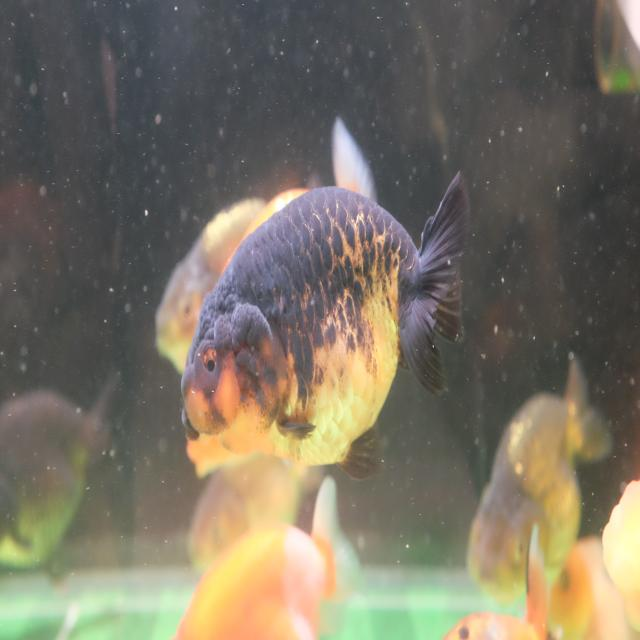Tilapia: (178, 166, 475, 486), (464, 352, 616, 603)
